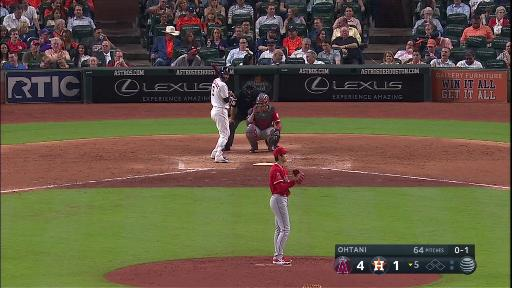pitcher: (268, 147, 309, 265)
